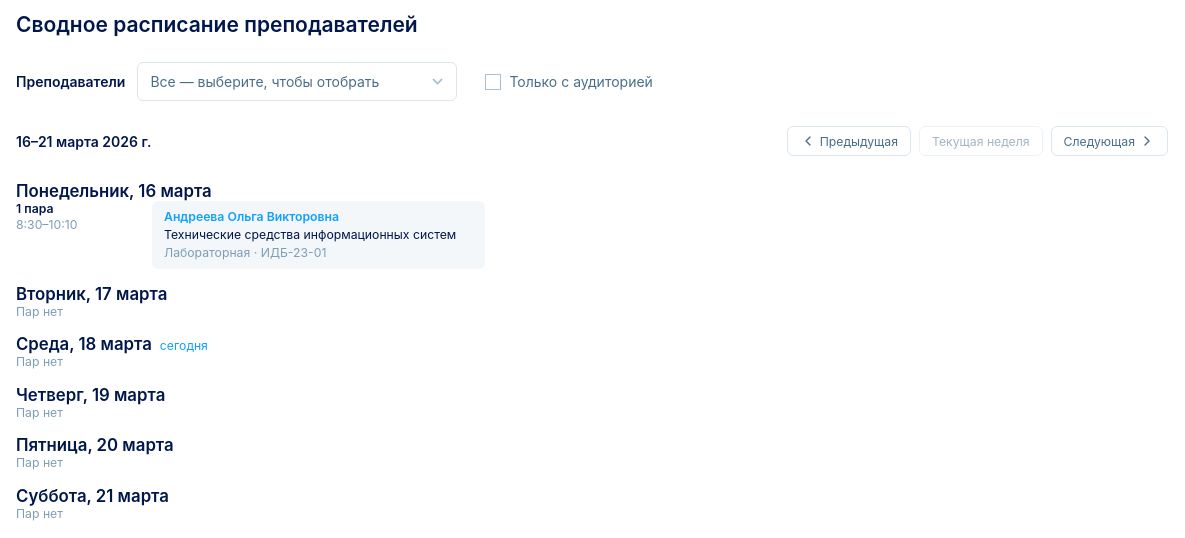
ScheduleSummaryPage (F-57) › без аудитории ни у одной пары показывает «Пар не найдено»
Click the checkbox labelled "Только с аудиторией": (493, 82) [485,74,501,90]
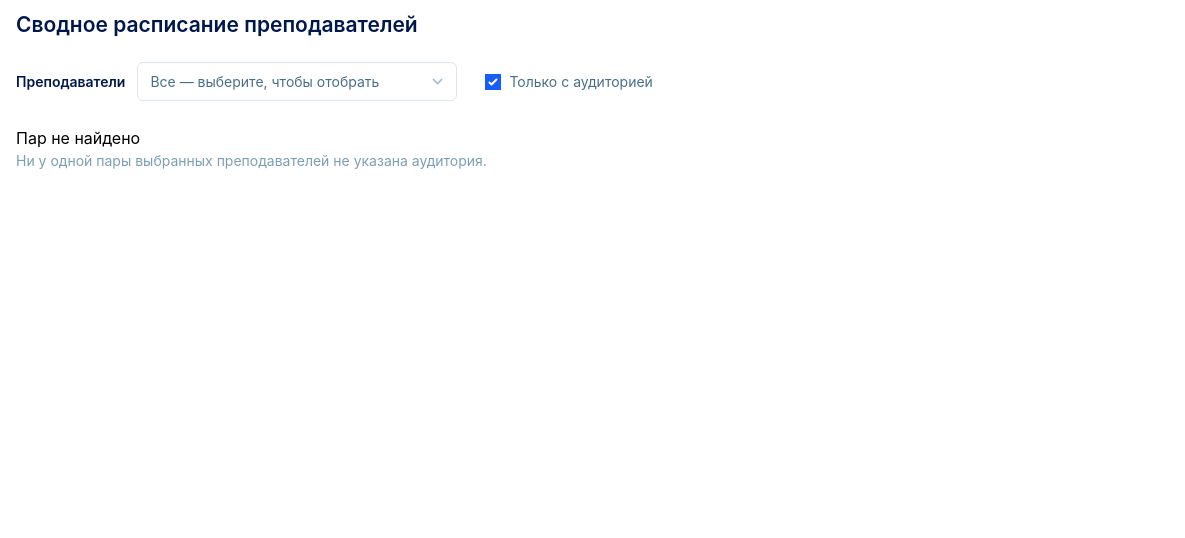
Expected: the text "Пар не найдено" is shown, [16,128,140,148]
Expected: the text "16–21 марта 2026 г." is gone
